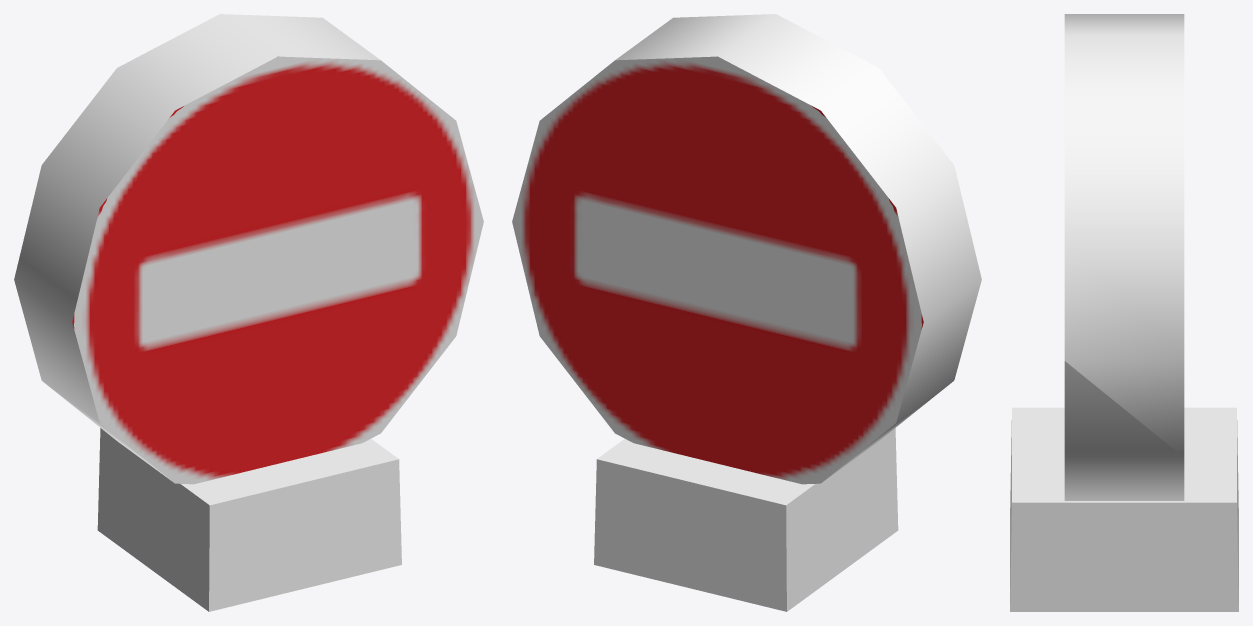
The model's file is Part_Sign_Brick.FBX.
The picture shows the model from 3 angles, left to right: view 1: azimuth 30°, elevation 25°; view 2: azimuth 150°, elevation 25°; view 3: azimuth 270°, elevation 25°; orthographic projection. The views are drawn at different scales.
Visible parts, largest first — view 1: Part_Sign_Brick; view 2: Part_Sign_Brick; view 3: Part_Sign_Brick.
Part boxes in pixels (x1,y1,x2,y2): Part_Sign_Brick: (14,14,483,611); Part_Sign_Brick: (512,14,981,611); Part_Sign_Brick: (1010,14,1238,611).
Size of the model in its own units: 204 by 243 by 95.71.
